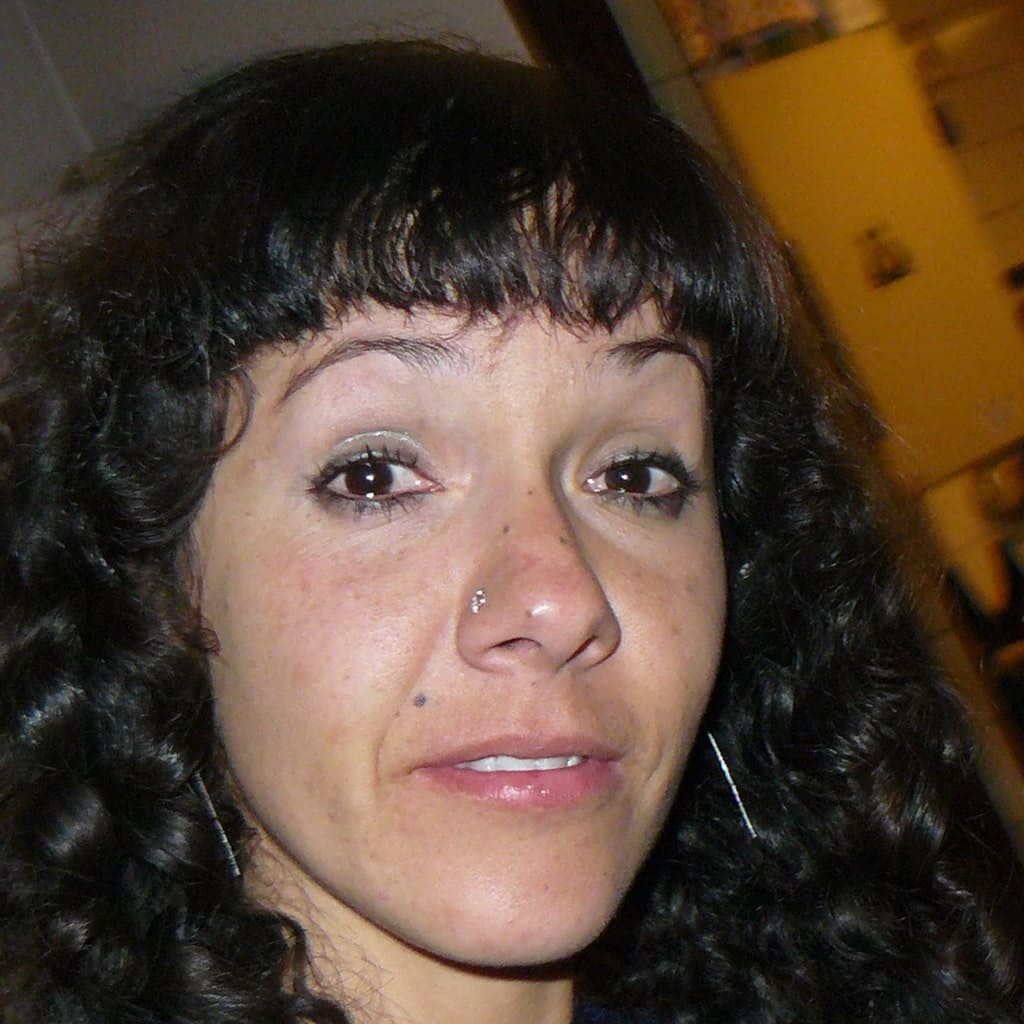without_mask: (240, 336, 726, 910)
